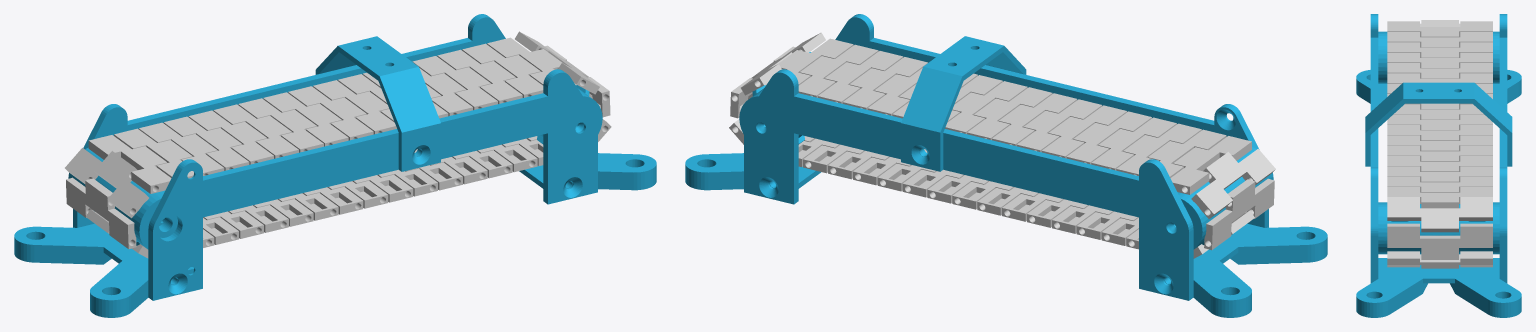
File: belt.glb
3 views of the same model, side by side, from view 1: azimuth 30°, elevation 25°; view 2: azimuth 150°, elevation 25°; view 3: azimuth 270°, elevation 25° (orthographic). The views are drawn at different scales.
Parts seen in each view (by area): view 1: construction, Body5, Body6, Body2, Body16.001, Body21.001, Body20.001, Body18.001, Body10.001, Body17.001, Body19.001, Body11.001 (+23 smaller); view 2: construction, Body5, Body6, Body2, Body20.001, Body10.001, Body18.001, Body19.001, Body17.001, Body16.001, Body21.001, Body11.001 (+23 smaller); view 3: construction, Body6.001, Body7.001, Body8.001, Body5.001, Body12.001, Body9.001, Body10.001, Body11.001, Body13.001, Body14.001, Body2 (+11 smaller).
Boxes of the visible parts, bbox=[...] form: construction: bbox=[14, 14, 656, 317]; Body5: bbox=[65, 148, 148, 218]; Body6: bbox=[66, 177, 136, 249]; Body2: bbox=[88, 135, 171, 193]; Body16.001: bbox=[288, 86, 373, 140]; Body21.001: bbox=[163, 116, 249, 170]; Body20.001: bbox=[188, 110, 273, 164]; Body18.001: bbox=[238, 98, 323, 152]; Body10.001: bbox=[437, 49, 522, 103]; Body17.001: bbox=[263, 92, 348, 146]; Body19.001: bbox=[213, 104, 298, 158]; Body11.001: bbox=[412, 56, 497, 110]; construction: bbox=[685, 14, 1327, 317]; Body5: bbox=[1191, 149, 1275, 218]; Body6: bbox=[1204, 178, 1274, 250]; Body2: bbox=[1170, 136, 1251, 194]; Body20.001: bbox=[1066, 111, 1151, 164]; Body10.001: bbox=[818, 51, 903, 103]; Body18.001: bbox=[1016, 99, 1102, 152]; Body19.001: bbox=[1041, 105, 1127, 158]; Body17.001: bbox=[992, 93, 1077, 146]; Body16.001: bbox=[967, 87, 1052, 140]; Body21.001: bbox=[1091, 117, 1176, 170]; Body11.001: bbox=[842, 57, 927, 109]; construction: bbox=[1356, 14, 1521, 317]; Body6.001: bbox=[1387, 223, 1492, 259]; Body7.001: bbox=[1387, 197, 1492, 232]; Body8.001: bbox=[1387, 187, 1492, 208]; Body5.001: bbox=[1387, 251, 1492, 268]; Body12.001: bbox=[1387, 145, 1492, 161]; Body9.001: bbox=[1387, 176, 1492, 192]; Body10.001: bbox=[1387, 166, 1492, 182]; Body11.001: bbox=[1387, 156, 1492, 171]; Body13.001: bbox=[1387, 135, 1492, 151]; Body14.001: bbox=[1387, 125, 1492, 140]; Body2: bbox=[1387, 21, 1492, 37].
Size of the model in its own units: 4.29 by 1.1 by 1.29.
